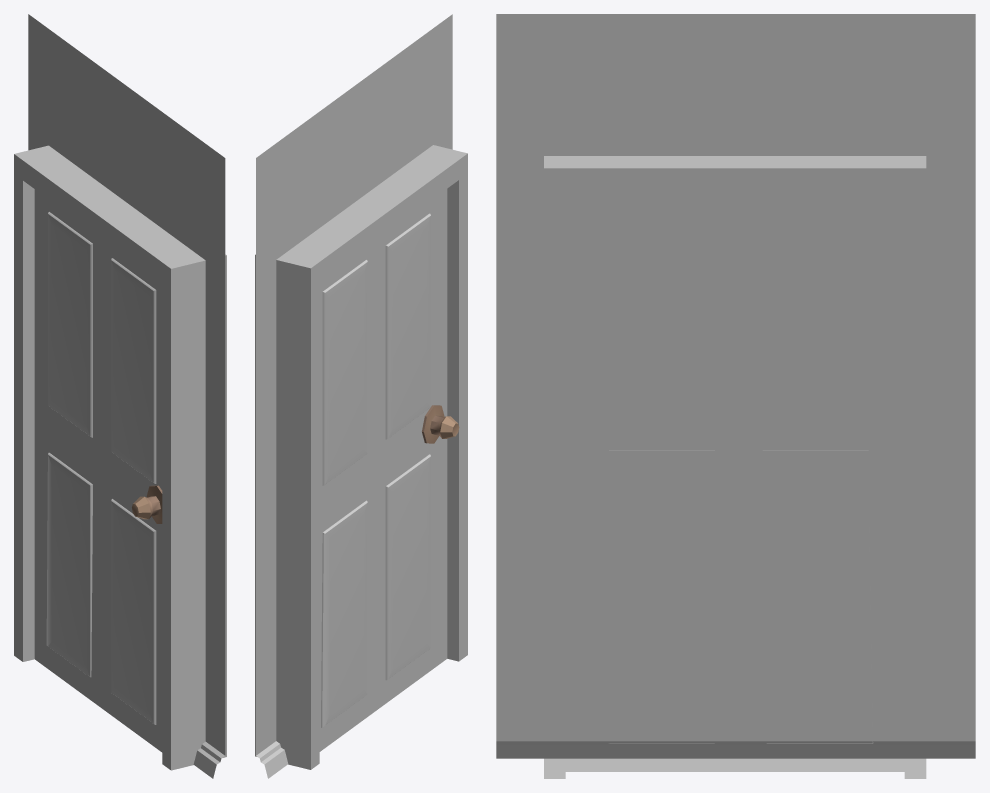
The model's file is door and wall.fbx.
The picture shows the model from 3 angles, left to right: view 1: azimuth 30°, elevation 25°; view 2: azimuth 150°, elevation 25°; view 3: azimuth 270°, elevation 25°; orthographic projection. The views are drawn at different scales.
Parts seen in each view (by area): view 1: Door, knob; view 2: Door, knob; view 3: Door.
Boxes of the visible parts, x1,y1,x2,y2 form: Door: (14,14,226,778); knob: (132,485,162,523); Door: (255,14,467,778); knob: (422,405,459,443); Door: (496,14,975,778).
Bounding box in the file's own units: 243 × 2118 × 1223.
